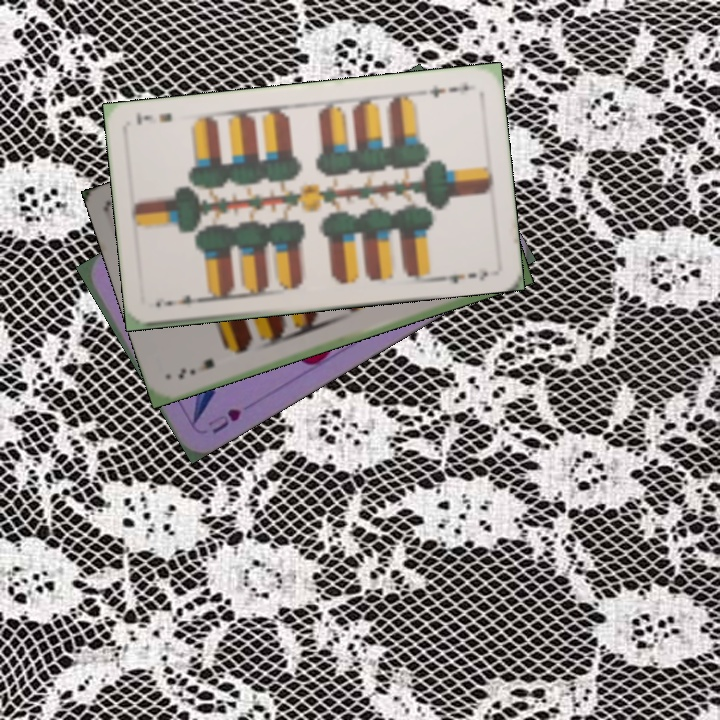E7: (174, 354, 217, 382), (425, 77, 472, 100), (161, 291, 208, 308)
HU: (204, 404, 244, 436)
